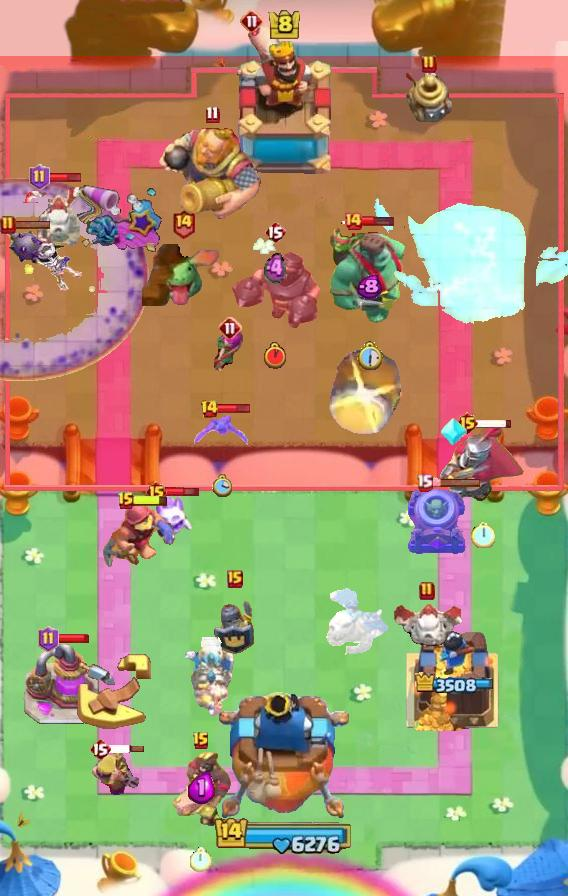arrows: (88, 746, 139, 798)
barbarian: (193, 414, 251, 450)
cannon: (211, 330, 249, 376)
clock: (214, 815, 354, 855)
dirt: (328, 347, 406, 439)
electro-spirit: (189, 772, 216, 804), (264, 252, 286, 286), (356, 274, 382, 300)
electro-wizard: (142, 244, 224, 306)
elixir: (356, 341, 383, 371), (471, 520, 495, 547), (264, 342, 286, 369), (190, 847, 212, 872), (212, 474, 232, 498)
emote: (0, 218, 52, 230), (430, 476, 482, 487), (133, 494, 169, 507), (165, 485, 200, 498), (361, 215, 395, 227), (475, 418, 512, 429), (46, 173, 82, 184), (217, 402, 252, 413), (56, 633, 90, 644), (109, 744, 145, 754)
fireball: (100, 498, 178, 572)
freeze: (170, 750, 232, 830)
giant: (245, 22, 291, 74)
giant-skeleton: (158, 126, 266, 222)
goblin-ball: (0, 223, 84, 293)
goblin-cage: (404, 487, 468, 557)
goblin-drill: (406, 73, 452, 125)
king-tower: (219, 692, 349, 826), (228, 41, 340, 181)
lava-hound: (325, 217, 413, 327)
mega-knight: (374, 182, 568, 328)
mini-pekka: (325, 587, 393, 661), (181, 637, 237, 721), (23, 179, 83, 249), (390, 599, 464, 647)
mirror: (149, 489, 193, 543)
pad_2: (440, 416, 468, 448)
pekka: (22, 644, 100, 726)
princess: (214, 593, 256, 657)
queen-tower: (405, 621, 501, 731)
rocket: (0, 177, 148, 381)
royal-guardian: (229, 238, 321, 328)
selected: (413, 672, 493, 696)
text: (172, 209, 197, 239), (240, 9, 264, 33), (218, 316, 242, 340), (37, 626, 59, 652), (457, 411, 480, 435), (145, 480, 168, 504), (30, 164, 51, 190), (264, 220, 286, 244), (89, 737, 111, 761), (343, 211, 363, 231), (200, 399, 219, 419), (117, 491, 135, 511), (192, 731, 210, 751), (415, 472, 433, 491), (421, 54, 437, 74), (0, 215, 16, 235), (419, 581, 435, 601), (227, 570, 243, 588), (204, 105, 219, 123)
wall-breaker-evolution: (440, 420, 526, 504)
